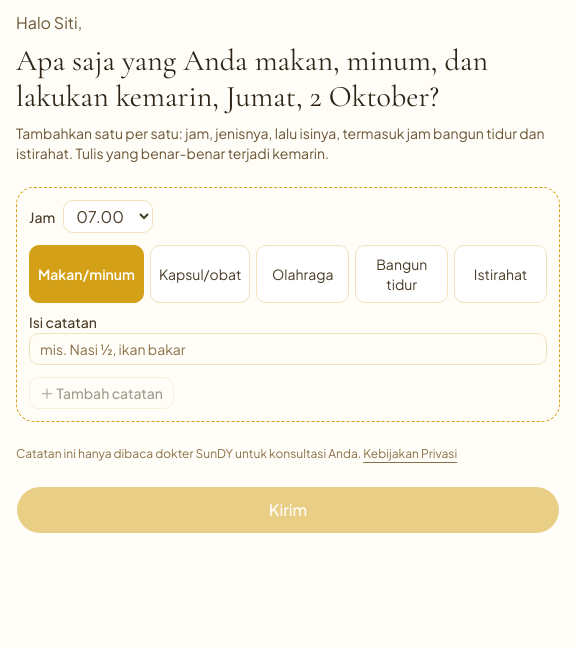
Test: halaman food recall customer › menampilkan pesan dari server bila kiriman ditolak
The image size is (577, 648).
Type "Teh manis" into the field labelled "Isi catatan" at (288, 349), box [29, 333, 547, 365]
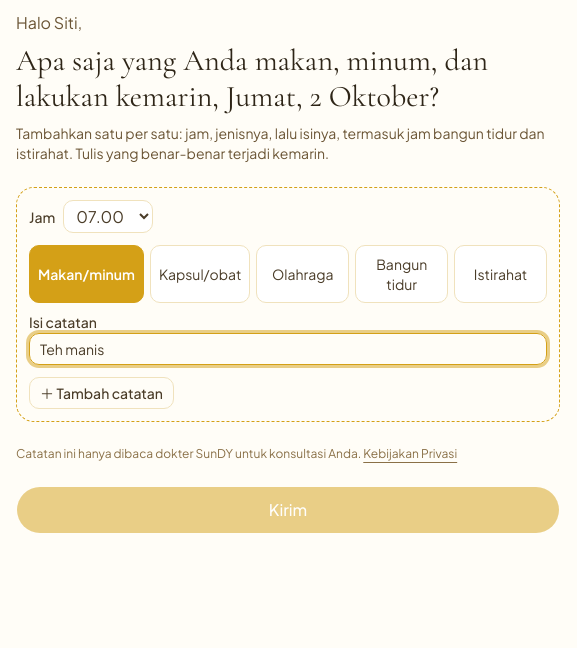
Click the button "＋ Tambah catatan" at (101, 393), box [29, 377, 174, 409]
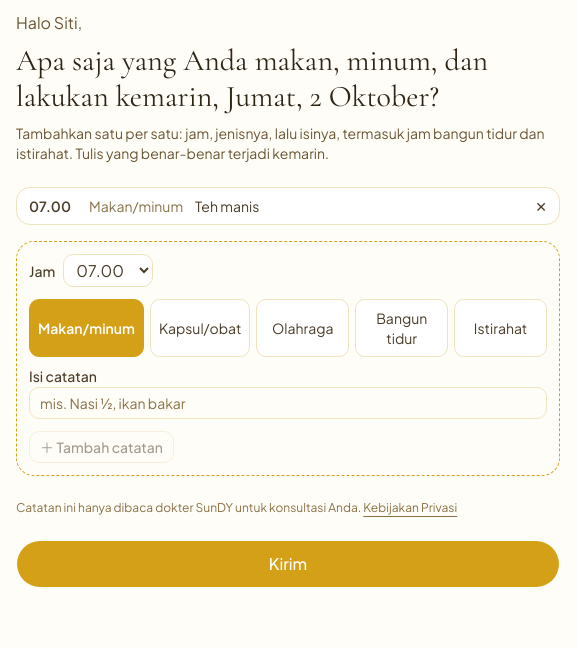
Click the button "Kirim" at (288, 564), box [16, 540, 560, 588]
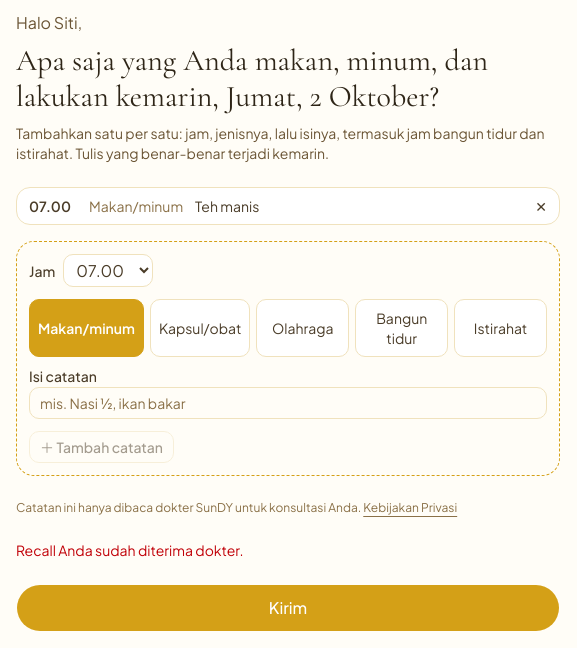
Expected: the message reads "Recall Anda sudah diterima dokter.", [16, 541, 244, 559]
